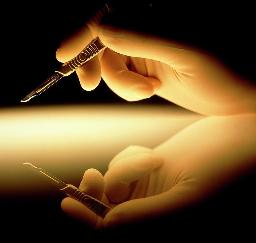scalpel: (20, 36, 106, 102)
